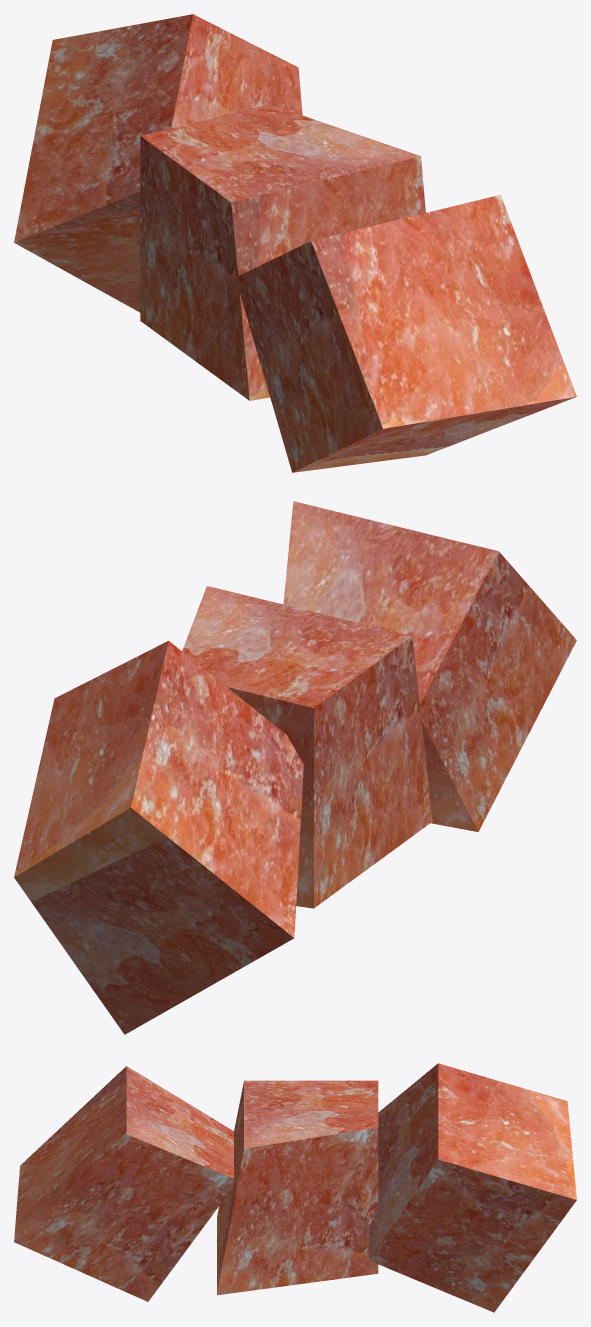
The model's file is ROCK SALT.fbx.
3 renders of one model, top to bottom at view 1: azimuth 30°, elevation 25°; view 2: azimuth 150°, elevation 25°; view 3: azimuth 270°, elevation 25°, orthographic. The views are drawn at different scales.
Parts seen in each view (by area): view 1: ROCK_SALT1, ROCK_SALT, ROCK_SALT2; view 2: ROCK_SALT2, ROCK_SALT1, ROCK_SALT; view 3: ROCK_SALT2, ROCK_SALT1, ROCK_SALT.
Boxes of the visible parts, x1=… form: ROCK_SALT1: x1=238, y1=195, x2=576, y2=472; ROCK_SALT: x1=140, y1=104, x2=425, y2=400; ROCK_SALT2: x1=14, y1=14, x2=302, y2=312; ROCK_SALT2: x1=14, y1=640, x2=303, y2=1034; ROCK_SALT1: x1=283, y1=501, x2=576, y2=831; ROCK_SALT: x1=182, y1=586, x2=432, y2=908; ROCK_SALT2: x1=369, y1=1063, x2=576, y2=1312; ROCK_SALT1: x1=14, y1=1066, x2=233, y2=1301; ROCK_SALT: x1=217, y1=1080, x2=378, y2=1295.
Bounding box in the file's own units: 11.87 × 15.1 × 31.01.
Materials: 1 (1 with a texture image).
